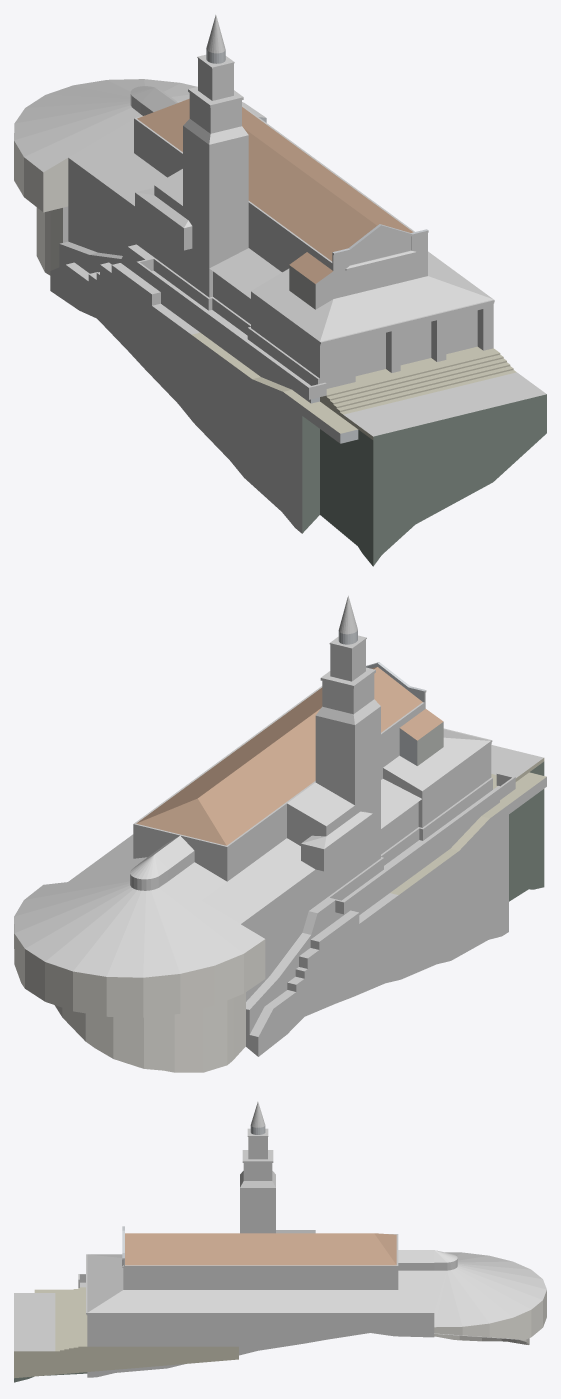
Rendered from monserraate.fbx.
The picture shows the model from 3 angles, top to bottom: view 1: azimuth 30°, elevation 25°; view 2: azimuth 150°, elevation 25°; view 3: azimuth 270°, elevation 25°; orthographic projection. The views are drawn at different scales.
Parts seen in each view (by area): view 1: obj157; view 2: obj157; view 3: obj157.
Part boxes in pixels (x1,y1,x2,y2): obj157: [14, 15, 546, 566]; obj157: [14, 596, 546, 1072]; obj157: [14, 1102, 546, 1382].
Size of the model in its own units: 126 by 226 by 377.
